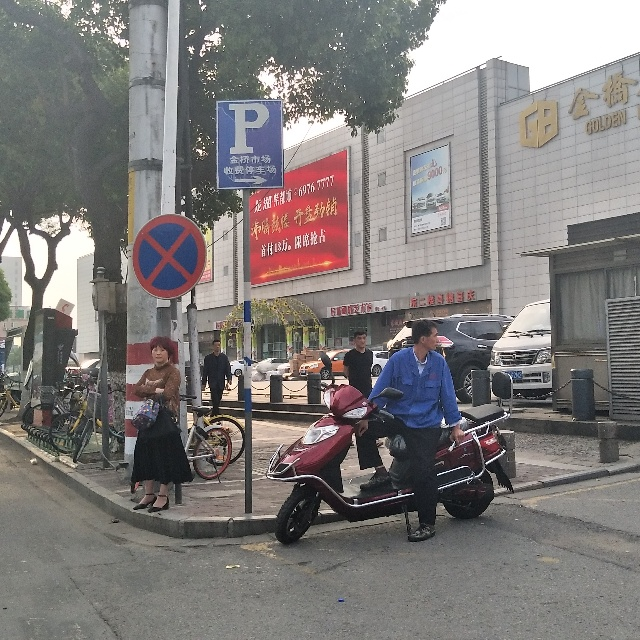stop: (134, 215, 207, 300)
